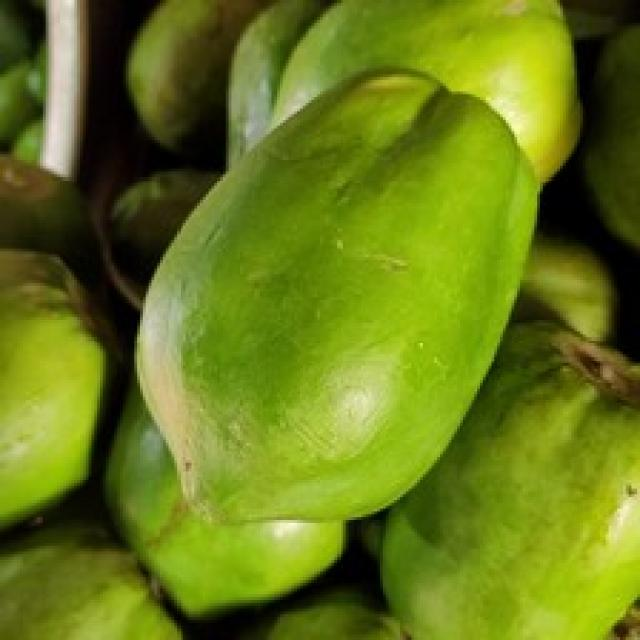Pepaya unrippen: (127, 73, 552, 529)
